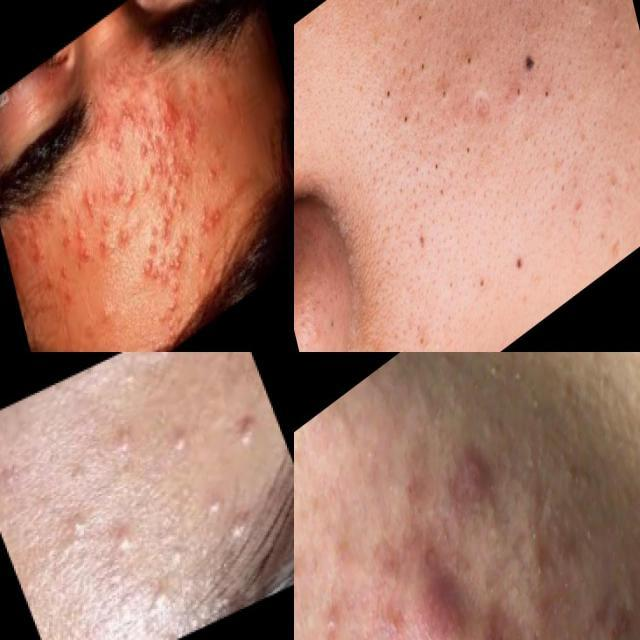Pimples: (549, 565, 640, 640), (402, 553, 473, 640), (308, 571, 351, 640), (602, 2, 636, 84), (403, 0, 465, 36), (369, 72, 398, 116), (405, 308, 434, 352), (471, 85, 495, 138), (502, 71, 528, 118), (535, 72, 561, 118), (566, 177, 592, 222), (456, 128, 480, 170), (431, 76, 453, 117), (461, 39, 482, 81), (601, 162, 623, 202), (162, 268, 185, 306), (116, 95, 138, 134), (72, 236, 95, 273), (166, 177, 186, 219), (392, 104, 414, 141), (146, 150, 168, 185), (152, 176, 174, 210), (206, 196, 226, 233), (571, 0, 598, 27), (104, 126, 125, 160), (159, 109, 179, 141), (26, 239, 44, 274), (410, 51, 430, 82), (111, 170, 130, 202), (53, 256, 72, 288), (156, 222, 176, 252), (142, 233, 160, 265), (179, 126, 197, 158), (167, 248, 185, 278), (138, 254, 156, 284), (165, 132, 183, 162), (174, 160, 193, 188), (133, 139, 151, 168), (70, 221, 88, 250), (310, 339, 346, 352), (80, 186, 96, 213), (98, 184, 112, 212), (179, 227, 193, 254), (60, 224, 74, 251), (180, 107, 194, 131)
